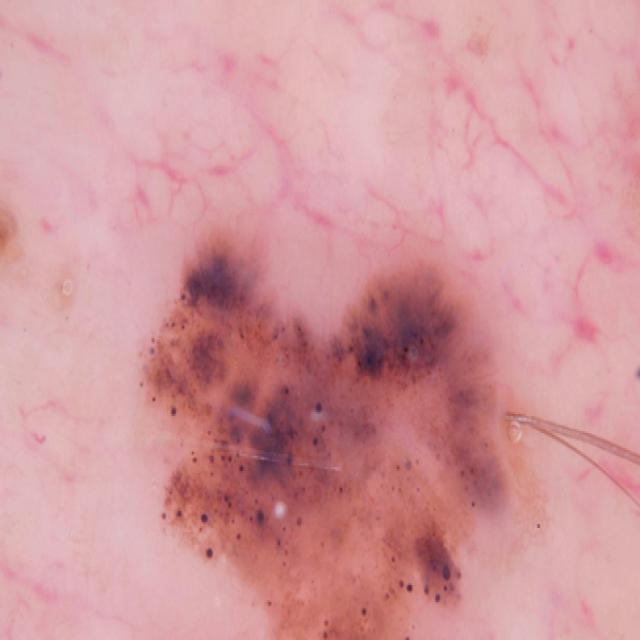Carcinoma: (135, 228, 505, 640)
